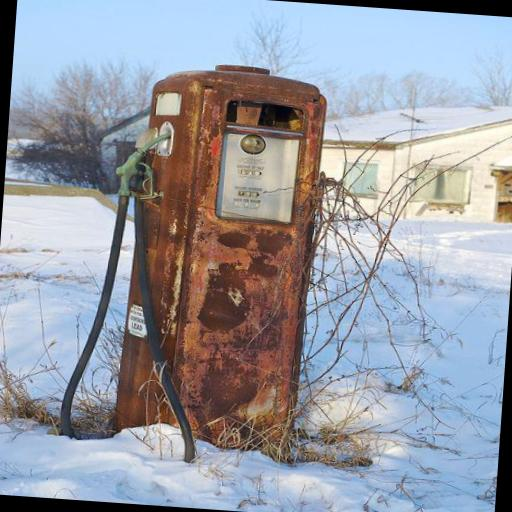segmentation: (115, 64, 326, 457), (491, 164, 512, 222)
